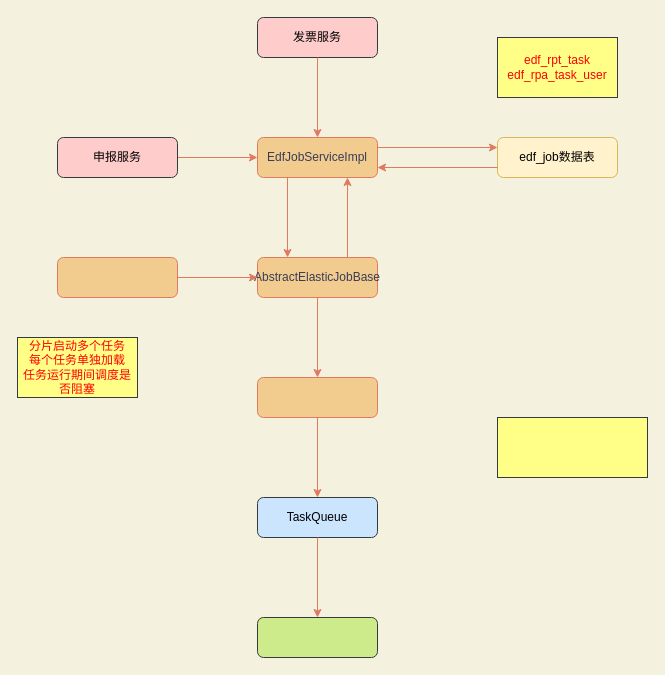
The diagram is 665 pixels wide and 675 high, and some of its shapes have lost their labels. Here are the shapes that lost their labels. From the top down, the box of each, then its label:
(56, 256, 178, 298): JobStarter
(256, 376, 378, 418): TaskScheduleUtil
(496, 416, 648, 478): 工作流配置流程 上下文数据通过redis传递 Rest服务调用
(256, 616, 378, 658): Robot
